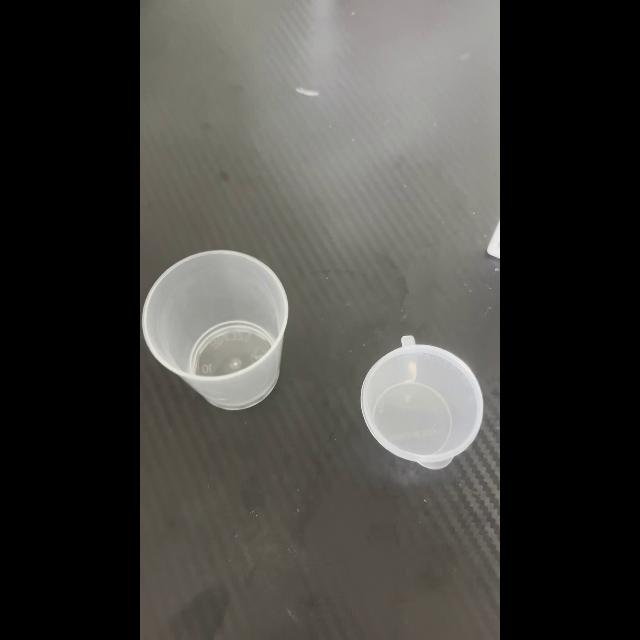clean: (149, 250, 287, 416), (368, 345, 466, 461)
